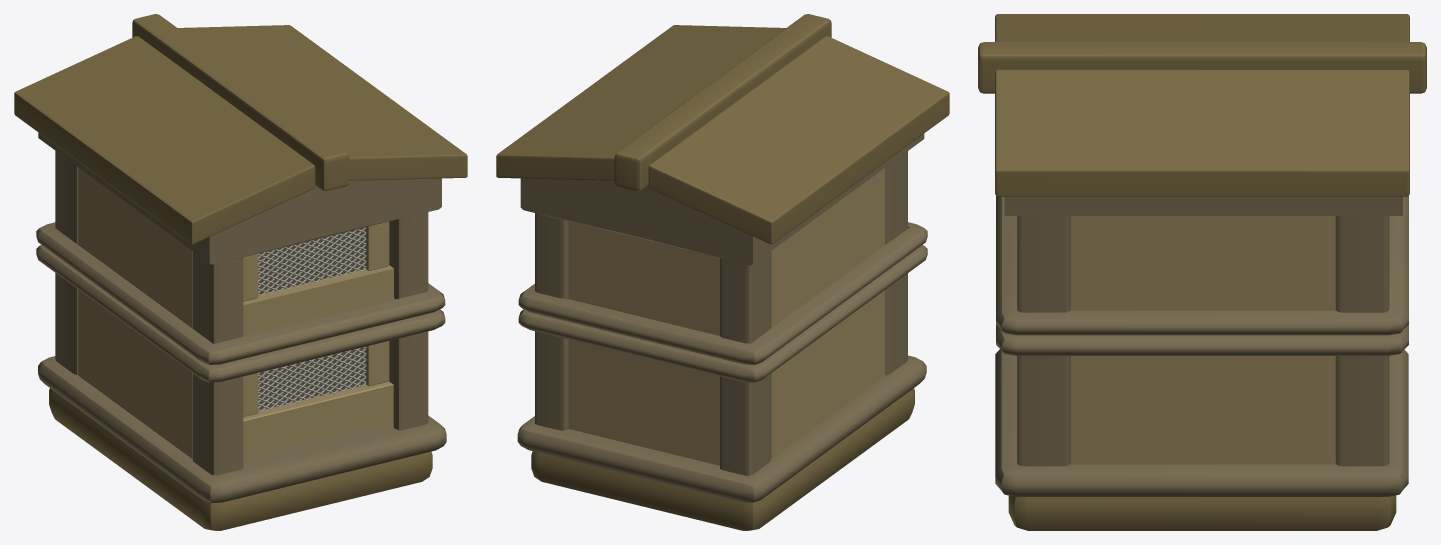
File: Beehive.fbx
The picture shows the model from 3 angles, left to right: view 1: azimuth 30°, elevation 25°; view 2: azimuth 150°, elevation 25°; view 3: azimuth 270°, elevation 25°; orthographic projection. The views are drawn at different scales.
Visible parts, largest first — view 1: pCube261, pCube275, pCube262, pCube249, pCube258, pCube247, pCube253, pCube250, pCube259, pCube252, pCube254, pCube263 (+10 smaller); view 2: pCube261, pCube277, pCube275, pCube262, pCube249, pCube258, pCube247, pCube253, pCube256, pCube259, pCube252, pCube255 (+1 smaller); view 3: pCube276, pCube262, pCube249, pCube253, pCube259, pCube247, pCube261, pCube255, pCube254, pCube252, pCube258.
Part boxes in pixels (left/top/right/bottom): pCube261: left=14, top=36, right=315, bottom=244; pCube275: left=78, top=167, right=192, bottom=458; pCube262: left=178, top=25, right=467, bottom=180; pCube249: left=38, top=356, right=446, bottom=502; pCube258: left=38, top=132, right=441, bottom=264; pCube247: left=49, top=388, right=432, bottom=530; pCube253: left=36, top=222, right=445, bottom=364; pCube250: left=192, top=251, right=243, bottom=475; pCube259: left=132, top=14, right=349, bottom=191; pCube252: left=36, top=245, right=445, bottom=382; pCube254: left=389, top=212, right=428, bottom=430; pCube263: left=243, top=381, right=393, bottom=464; pCube261: left=648, top=36, right=949, bottom=244; pCube277: left=568, top=221, right=719, bottom=465; pCube275: left=770, top=168, right=885, bottom=459; pCube262: left=496, top=25, right=785, bottom=180; pCube249: left=517, top=355, right=926, bottom=502; pCube258: left=520, top=133, right=924, bottom=265; pCube247: left=531, top=388, right=914, bottom=530; pCube253: left=518, top=222, right=927, bottom=364; pCube256: left=720, top=252, right=770, bottom=475; pCube259: left=614, top=14, right=831, bottom=191; pCube252: left=518, top=245, right=927, bottom=382; pCube255: left=535, top=213, right=568, bottom=430; pCube276: left=1070, top=216, right=1335, bottom=464; pCube262: left=995, top=69, right=1409, bottom=196; pCube249: left=995, top=349, right=1408, bottom=496; pCube253: left=996, top=196, right=1408, bottom=335; pCube259: left=978, top=42, right=1426, bottom=93; pCube247: left=1008, top=495, right=1396, bottom=530; pCube261: left=995, top=14, right=1409, bottom=41; pCube255: left=1335, top=216, right=1389, bottom=466; pCube254: left=1017, top=216, right=1070, bottom=466; pCube252: left=996, top=324, right=1408, bottom=355; pCube258: left=1004, top=196, right=1402, bottom=215.
Bounding box in the file's own units: 127 × 160 × 153.
